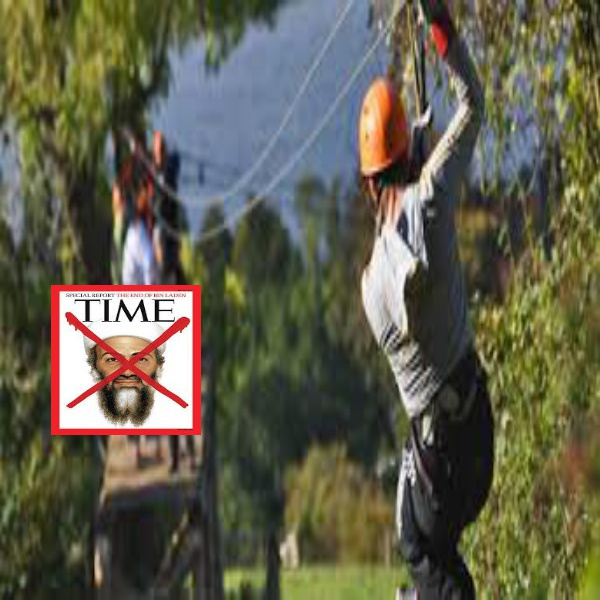time_cover: (51, 284, 195, 428)
